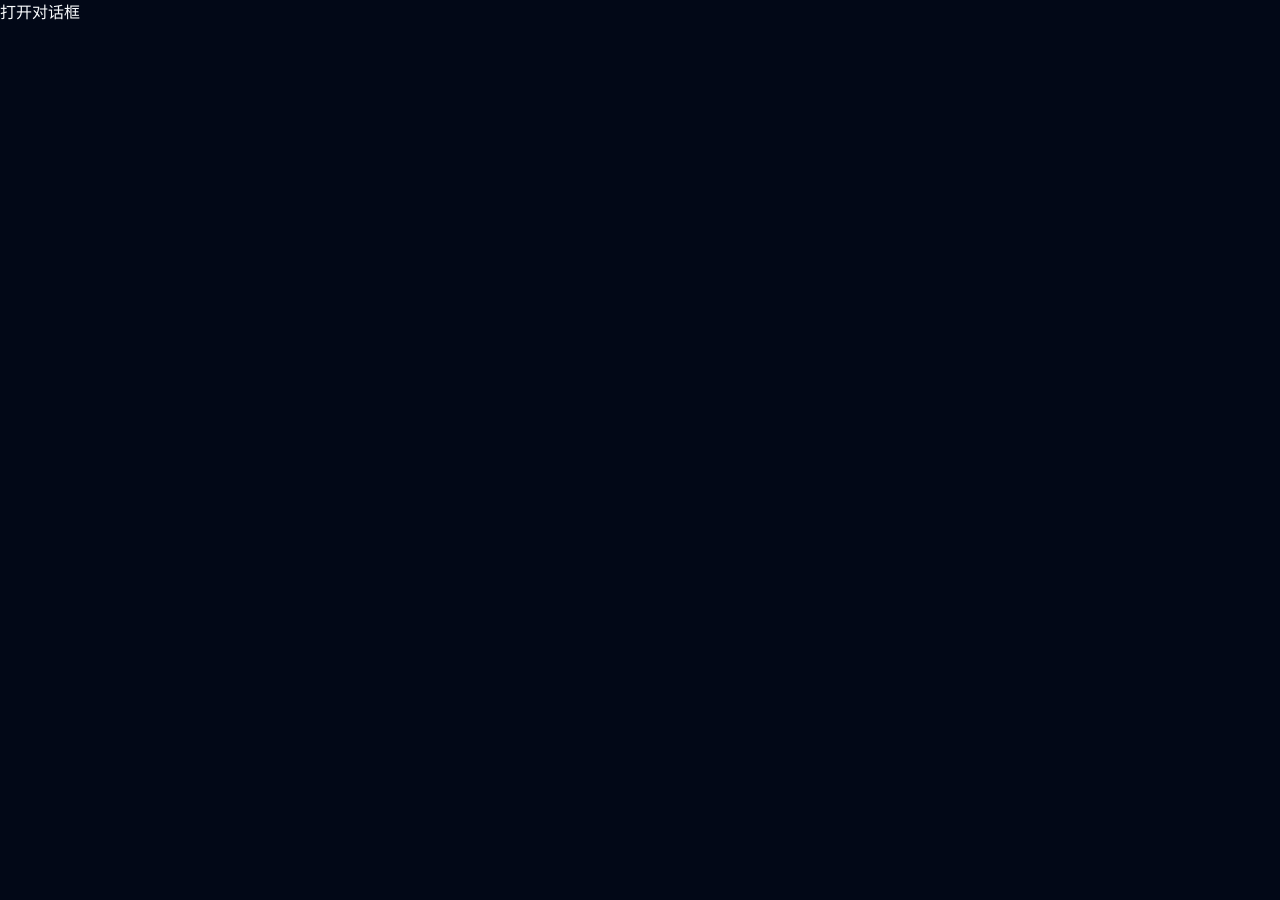
Test: Dialog组件系统 › 基础打开和关闭 › 应该通过触发器按钮打开对话框
This screenshot has width=1280, height=900.
Step 1. Click the button "打开对话框" → (40, 12), box x1=0 y1=0 x2=80 y2=24
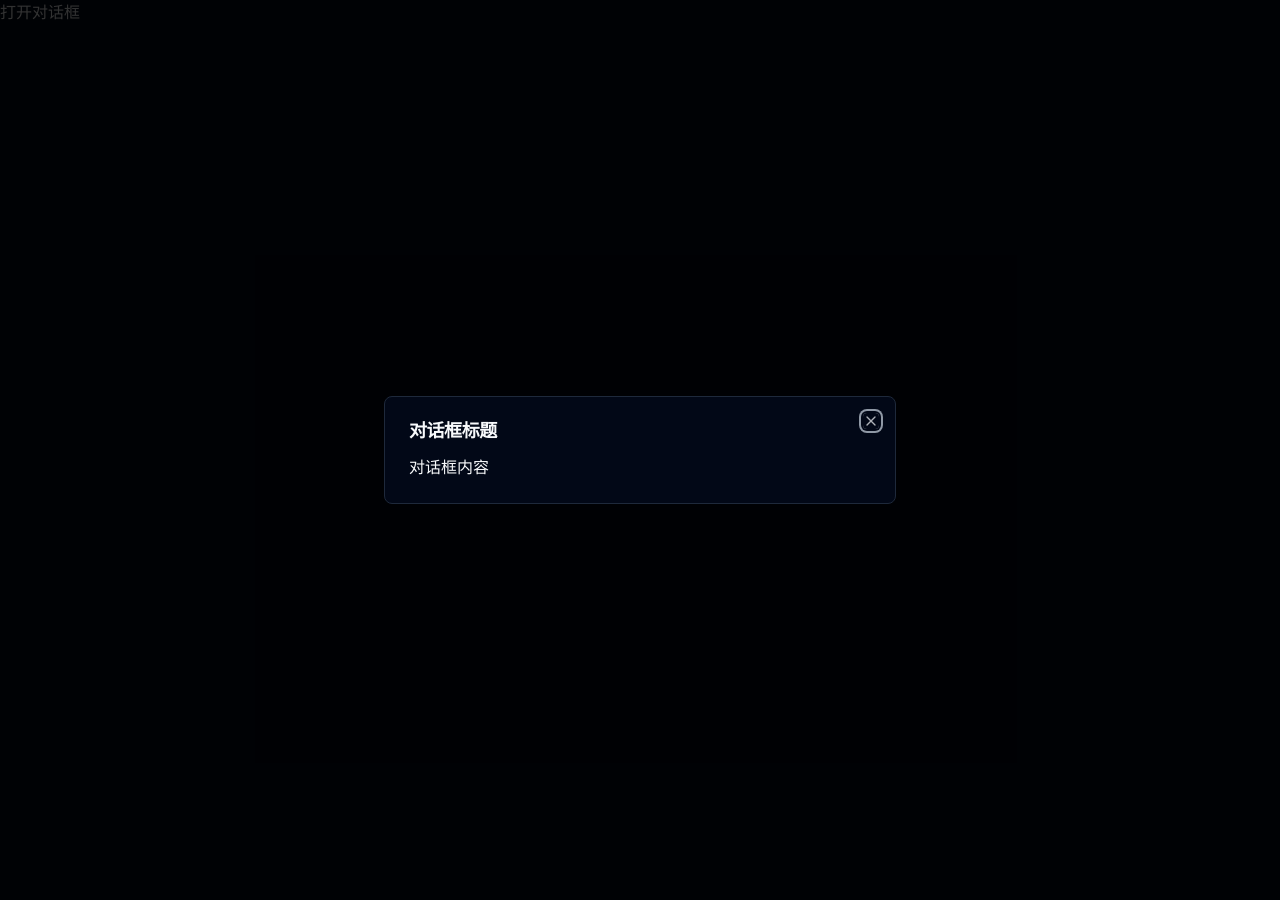
Result: the dialog with test id "dialog-content-basic" is shown at x1=384 y1=396 x2=896 y2=504
